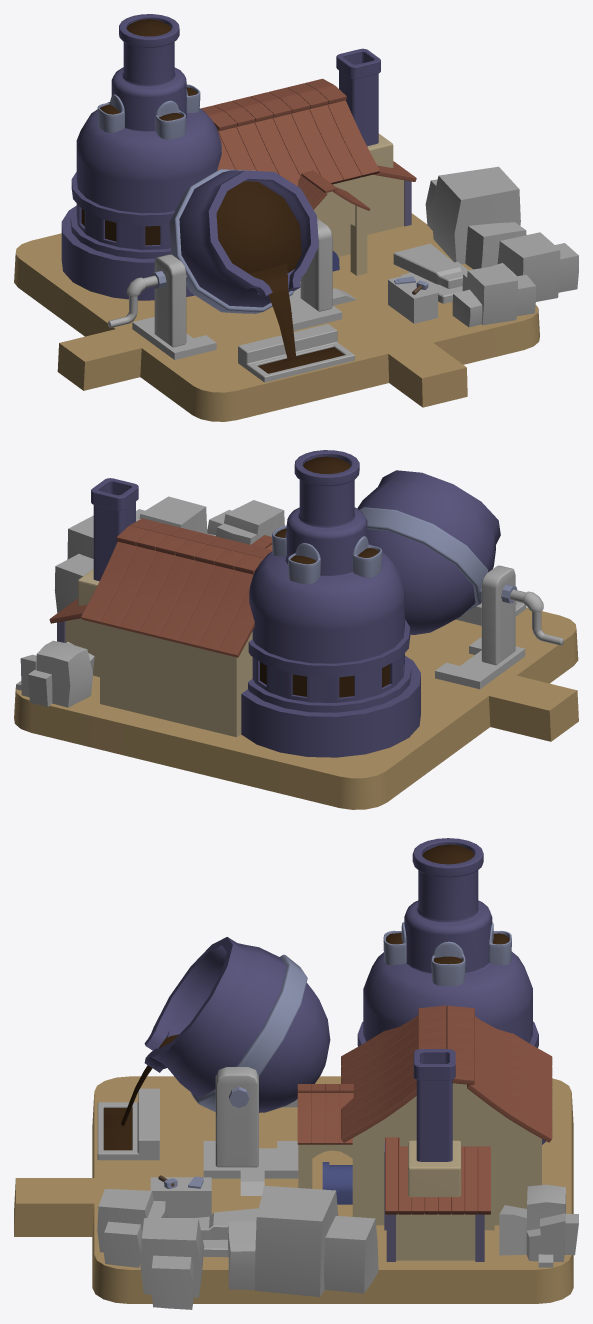
Rendered from iron_resources.fbx.
3 renders of one model, top to bottom at view 1: azimuth 30°, elevation 25°; view 2: azimuth 150°, elevation 25°; view 3: azimuth 270°, elevation 25°, orthographic. The views are drawn at different scales.
Parts seen in each view (by area): view 1: pCube45; view 2: pCube45; view 3: pCube45.
Part boxes in pixels (bbox=[...]): pCube45: bbox=[14, 14, 578, 421]; pCube45: bbox=[14, 450, 578, 809]; pCube45: bbox=[14, 838, 578, 1309].
Bounding box in the file's own units: 4.27 × 2.39 × 3.93.
